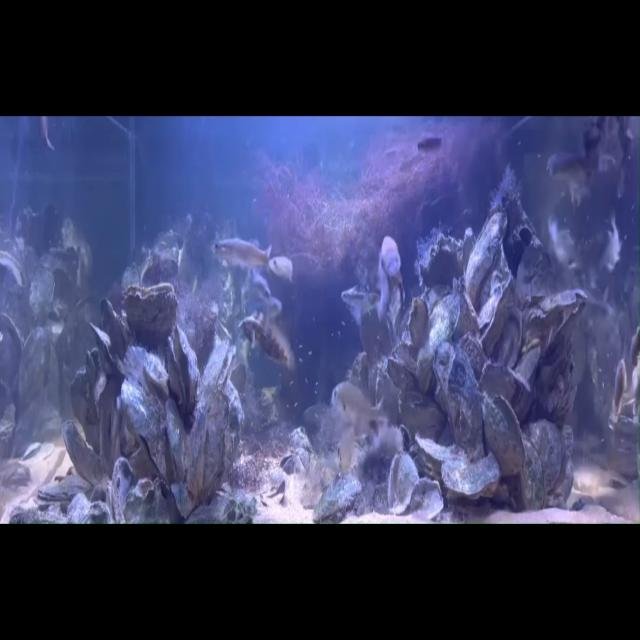Oyster- Indeterminate: (464, 216, 505, 303)
Oyster-Closed: (186, 380, 244, 504), (434, 342, 484, 460), (120, 380, 168, 480), (529, 420, 574, 506), (415, 224, 475, 287), (418, 290, 456, 389), (62, 420, 104, 484), (17, 331, 50, 403), (396, 393, 443, 443), (314, 473, 361, 522), (479, 282, 512, 351), (490, 304, 523, 372), (201, 336, 235, 391), (449, 280, 480, 336), (521, 438, 545, 509), (101, 299, 128, 360), (27, 265, 54, 325), (91, 327, 124, 374), (482, 363, 513, 404), (121, 347, 149, 392), (515, 346, 538, 386), (92, 369, 108, 409)
Oyster-Open: (522, 289, 586, 349), (482, 393, 524, 476), (124, 282, 178, 343), (441, 453, 500, 500), (168, 324, 199, 413), (124, 478, 181, 524), (38, 469, 92, 513), (0, 238, 29, 312), (388, 453, 419, 513), (388, 340, 422, 392), (164, 397, 186, 477), (111, 458, 132, 522), (140, 254, 181, 285), (410, 298, 433, 351), (144, 359, 168, 399), (231, 365, 247, 409), (86, 348, 99, 385)
